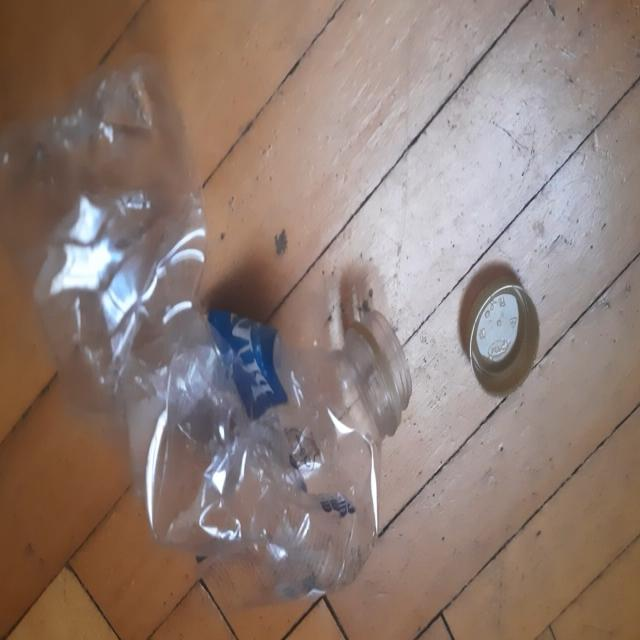Plastic: (4, 54, 412, 600)
